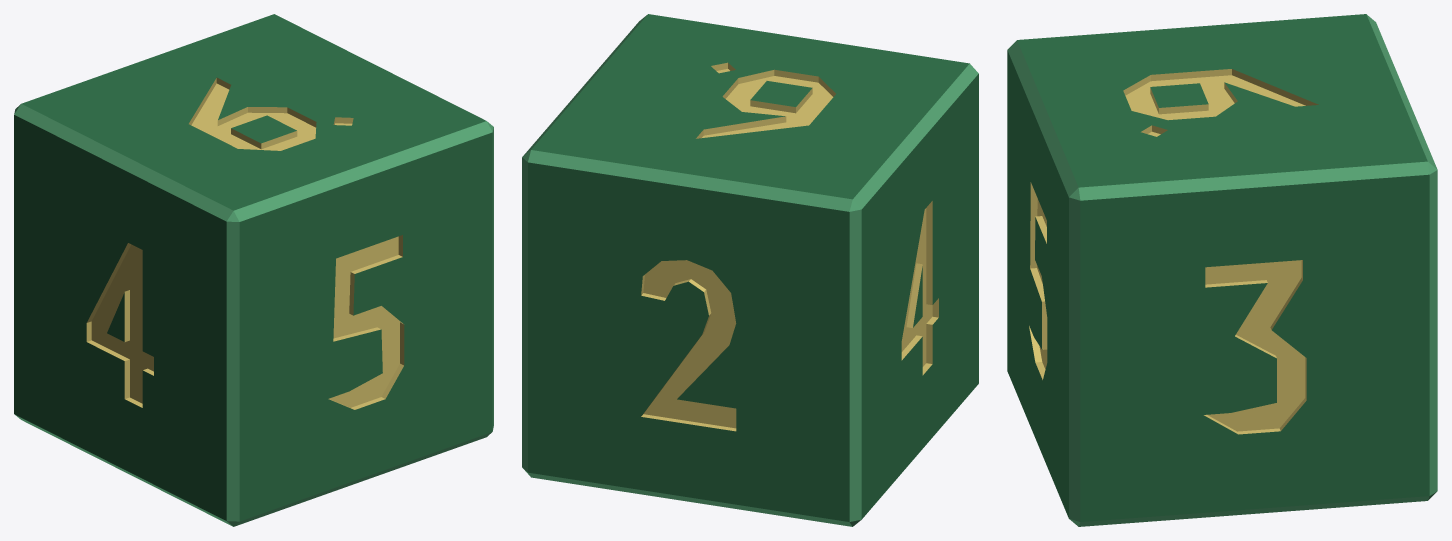
Rendered from d6-numeral-die-315b3a.glb.
The picture shows the model from 3 angles, left to right: view 1: azimuth 30°, elevation 25°; view 2: azimuth 150°, elevation 25°; view 3: azimuth 270°, elevation 25°; orthographic projection. The views are drawn at different scales.
Visible parts, largest first — view 1: resin, numerals; view 2: resin, numerals; view 3: resin, numerals.
Boxes of the visible parts, left/top/right/bottom form: resin: left=14, top=14, right=493, bottom=526; numerals: left=86, top=77, right=404, bottom=409; resin: left=522, top=14, right=978, bottom=526; numerals: left=641, top=62, right=938, bottom=431; resin: left=1007, top=14, right=1437, bottom=526; numerals: left=1029, top=69, right=1318, bottom=434.
Bounding box in the file's own units: 0.0184 × 0.016 × 0.0184.
